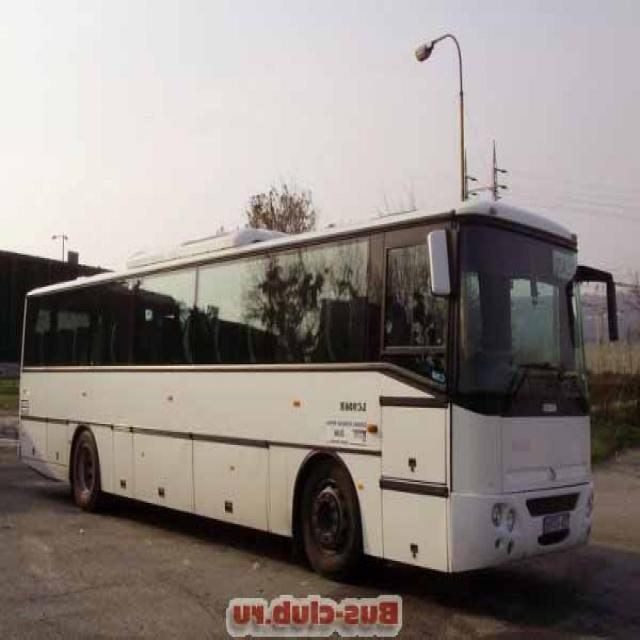bus: (16, 192, 623, 590)
